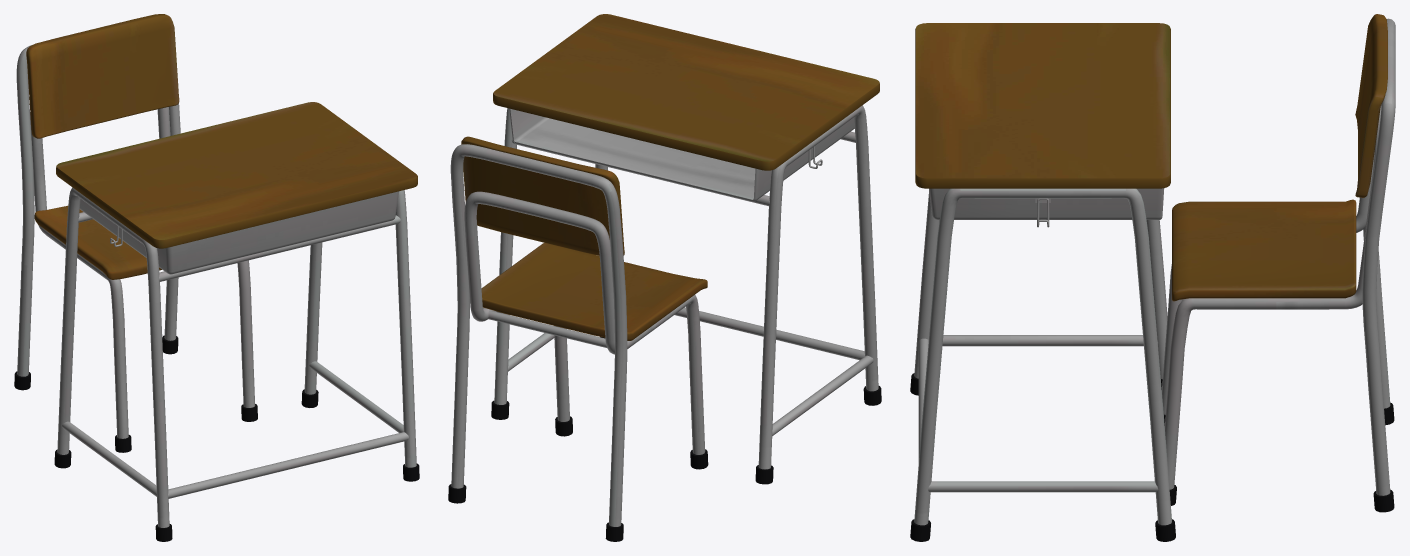
File: school-desk.obj
The picture shows the model from 3 angles, left to right: view 1: azimuth 30°, elevation 25°; view 2: azimuth 150°, elevation 25°; view 3: azimuth 270°, elevation 25°; orthographic projection. The views are drawn at different scales.
Parts seen in each view (by area): view 1: desk.010_NURBSパス.035, chair.010_NURBSパス.036; view 2: desk.010_NURBSパス.035, chair.010_NURBSパス.036; view 3: desk.010_NURBSパス.035, chair.010_NURBSパス.036.
Part boxes in pixels (x1,y1,x2,y2): desk.010_NURBSパス.035: (54,102,419,541); chair.010_NURBSパス.036: (14,14,257,452); desk.010_NURBSパス.035: (491,14,881,484); chair.010_NURBSパス.036: (448,136,708,541); desk.010_NURBSパス.035: (910,23,1175,541); chair.010_NURBSパス.036: (1161,14,1395,512).
Size of the model in its own units: 0.652 by 0.8041 by 0.8583.
